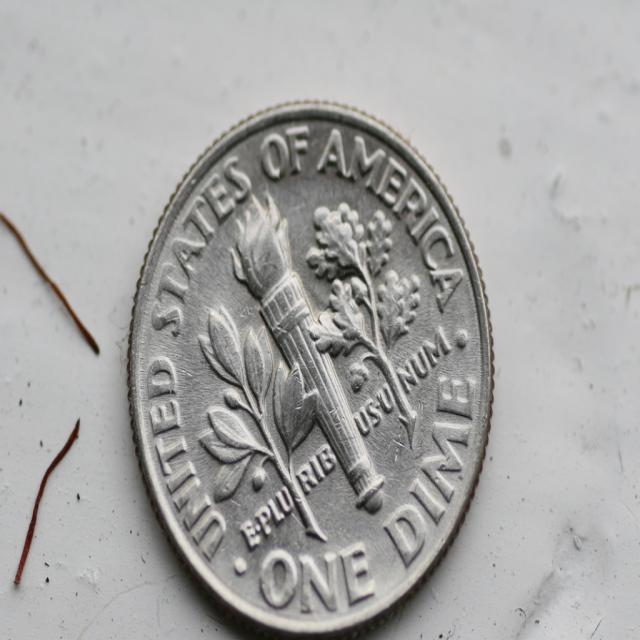Coin: (124, 95, 497, 639)
